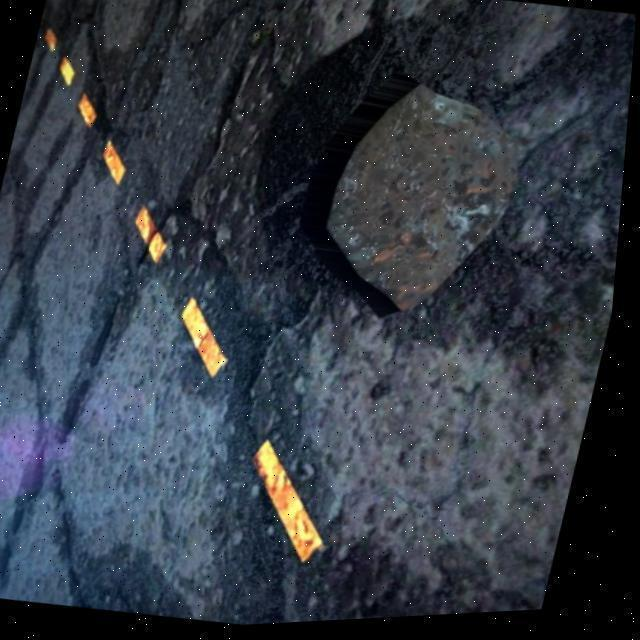Pothole: (306, 58, 534, 321)
